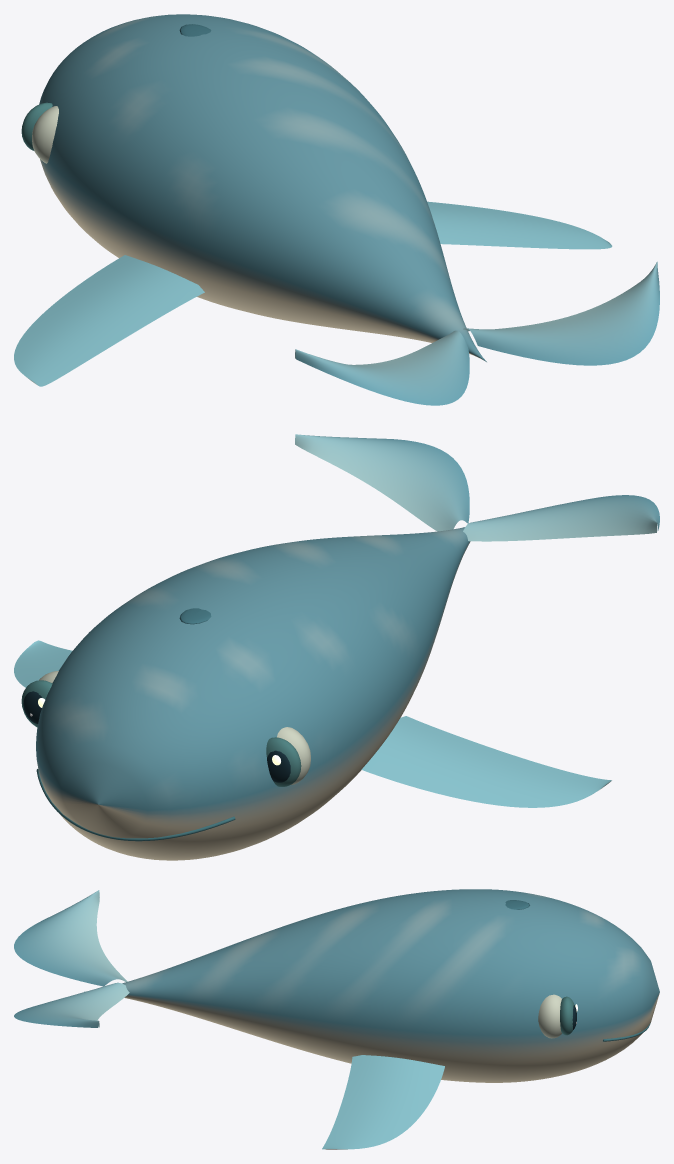
The model's file is whale.glb.
The picture shows the model from 3 angles, top to bottom: view 1: azimuth 30°, elevation 25°; view 2: azimuth 150°, elevation 25°; view 3: azimuth 270°, elevation 25°; orthographic projection. The views are drawn at different scales.
Visible parts, largest first — view 1: whale_fixed_Porcelain skin, whale_tail_Silken fins, whale_wing_left.001_Silken fins, whale_wing_right.001_Silken fins, whale_eye_left.001_Porcelain skin, whale_eye_left.001_Enamel; view 2: whale_fixed_Porcelain skin, whale_tail_Silken fins, whale_wing_left.001_Silken fins, whale_wing_right.001_Silken fins, whale_eye_left.001_Enamel, whale_eye_left.001_Porcelain skin; view 3: whale_fixed_Porcelain skin, whale_tail_Silken fins, whale_wing_right.001_Silken fins, whale_eye_right.001_Porcelain skin, whale_eye_right.001_Enamel.
Boxes of the visible parts, x1,y1,x2,y2 form: whale_fixed_Porcelain skin: (39,14,486,361); whale_tail_Silken fins: (295,261,659,405); whale_wing_left.001_Silken fins: (14,255,204,386); whale_wing_right.001_Silken fins: (427,201,612,249); whale_eye_left.001_Porcelain skin: (32,106,58,163); whale_eye_left.001_Enamel: (21,102,52,150); whale_fixed_Porcelain skin: (36,527,470,860); whale_tail_Silken fins: (295,434,659,541); whale_wing_left.001_Silken fins: (361,716,611,807); whale_wing_right.001_Silken fins: (14,640,72,687); whale_eye_left.001_Enamel: (266,737,301,786); whale_eye_left.001_Porcelain skin: (277,727,310,784); whale_fixed_Porcelain skin: (84,889,659,1082); whale_tail_Silken fins: (14,890,129,1027); whale_wing_right.001_Silken fins: (322,1055,444,1149); whale_eye_right.001_Porcelain skin: (538,994,576,1038); whale_eye_right.001_Enamel: (560,996,574,1035).
Bounding box in the file's own units: 4.86 × 1.82 × 6.38.
